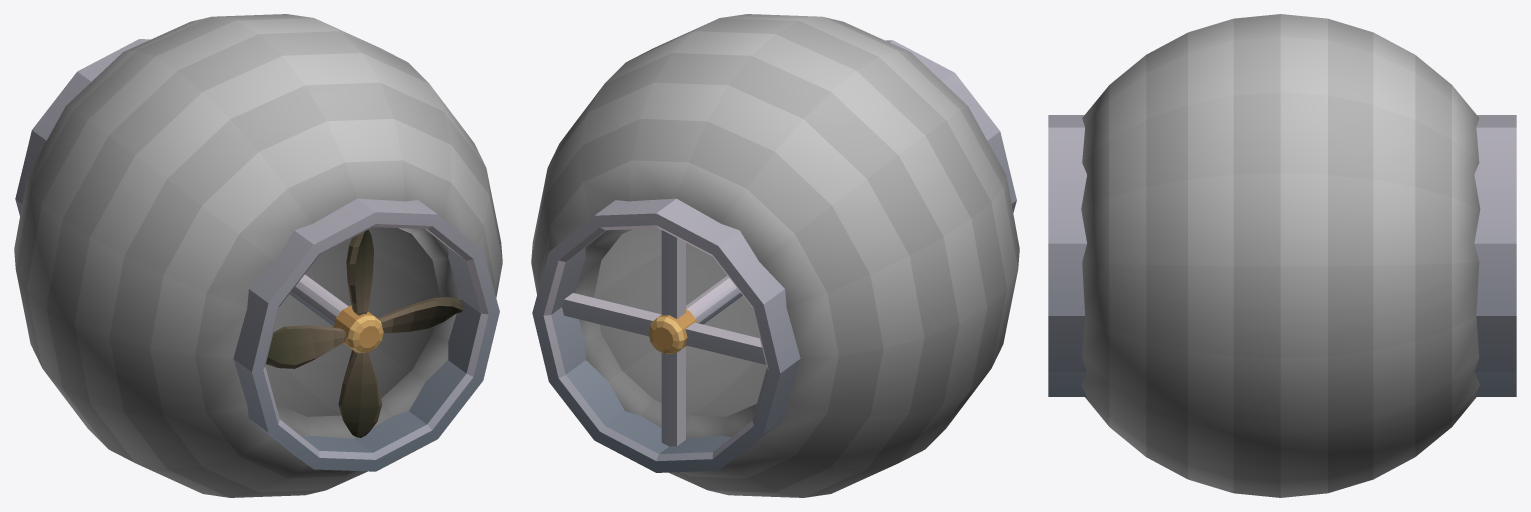
File: sp_powergen_wind_plain.fbx
The picture shows the model from 3 angles, left to right: view 1: azimuth 30°, elevation 25°; view 2: azimuth 150°, elevation 25°; view 3: azimuth 270°, elevation 25°; orthographic projection.
Parts seen in each view (by area): view 1: pow_gen01_plain, pow_gen01_elisi.006; view 2: pow_gen01_plain; view 3: pow_gen01_plain.
Boxes of the visible parts, left/top/right/bottom form: pow_gen01_plain: left=14, top=14, right=502, bottom=497; pow_gen01_elisi.006: left=266, top=229, right=463, bottom=437; pow_gen01_plain: left=531, top=14, right=1019, bottom=497; pow_gen01_plain: left=1048, top=14, right=1516, bottom=497.
Size of the model in its own units: 593 by 593 by 573.
